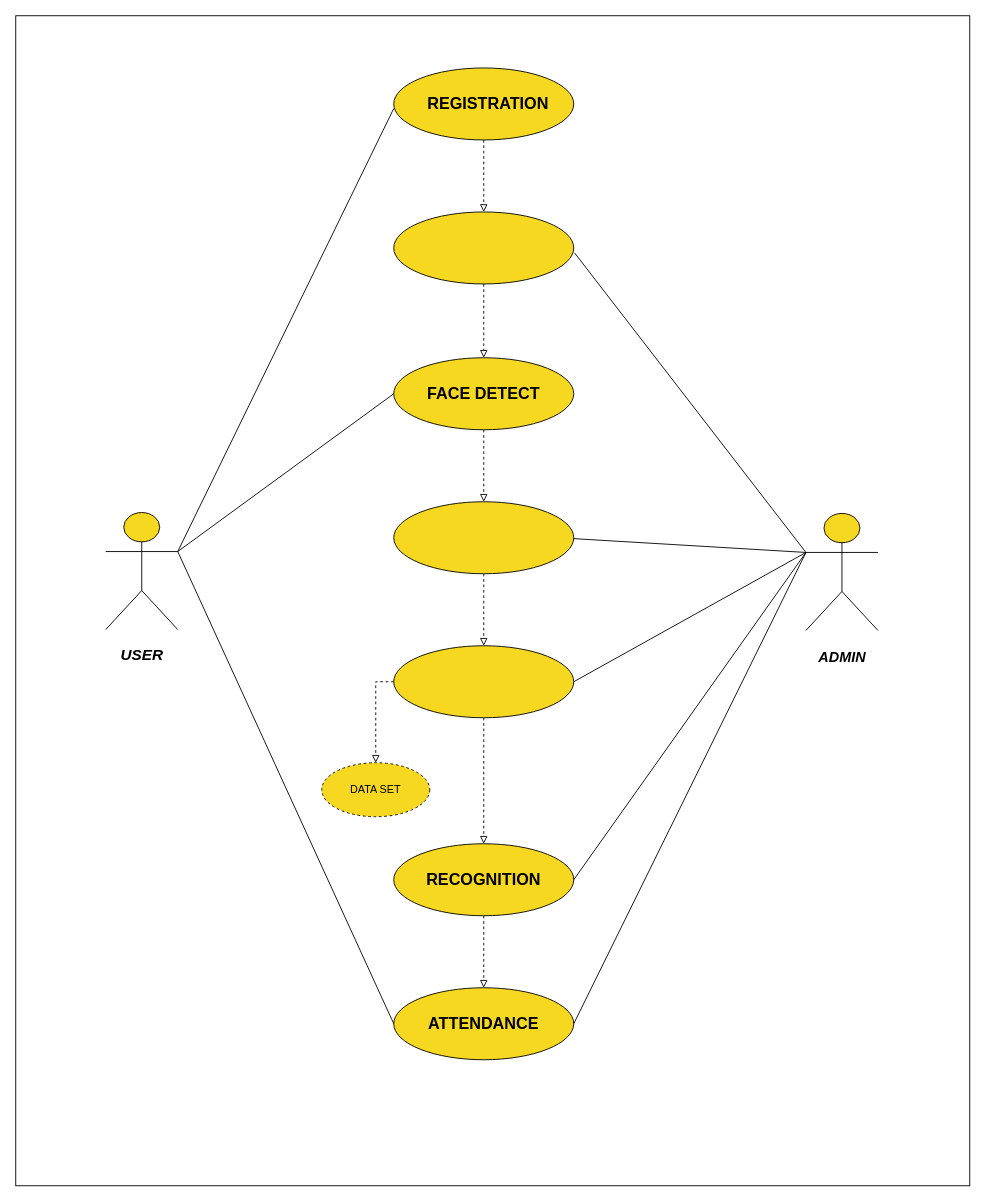
Some shapes in this 986 by 1202 pixel diagram are drawn without their labels. The centre of each missing label's shape, as x and y in pixels:
"FEATURES EXTRACTION" goes at (483,537).
"NEAREST NEIGHBOR CLASSIFIER" goes at (483,681).
"SAVE 50 IMAGES IN DATASET" goes at (483,247).
